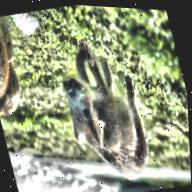boar: (45, 38, 181, 192)
